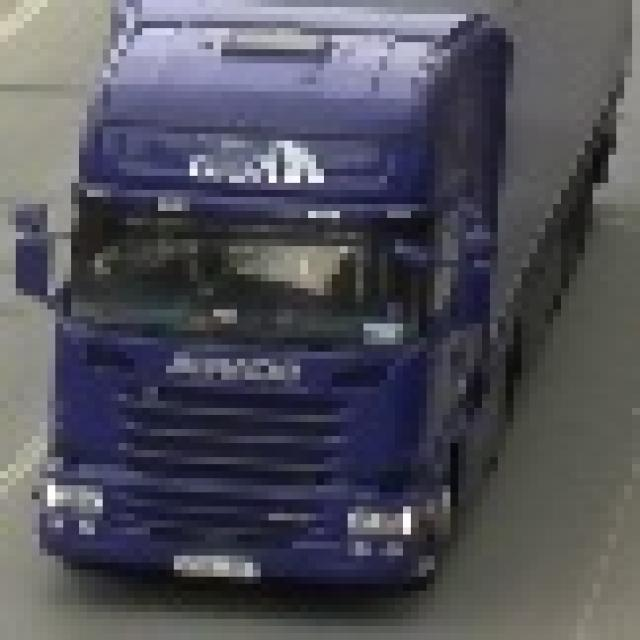TRUCK: (17, 2, 632, 600)
